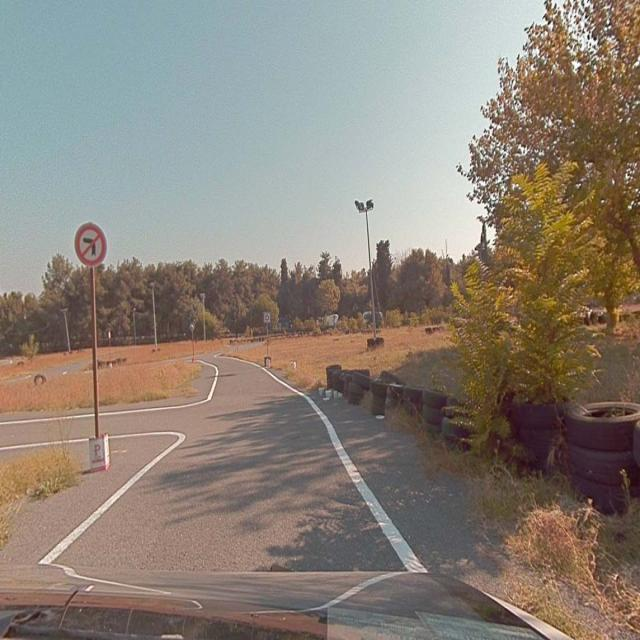durak: (264, 313, 270, 322)
soladonulmez: (75, 223, 104, 266)
